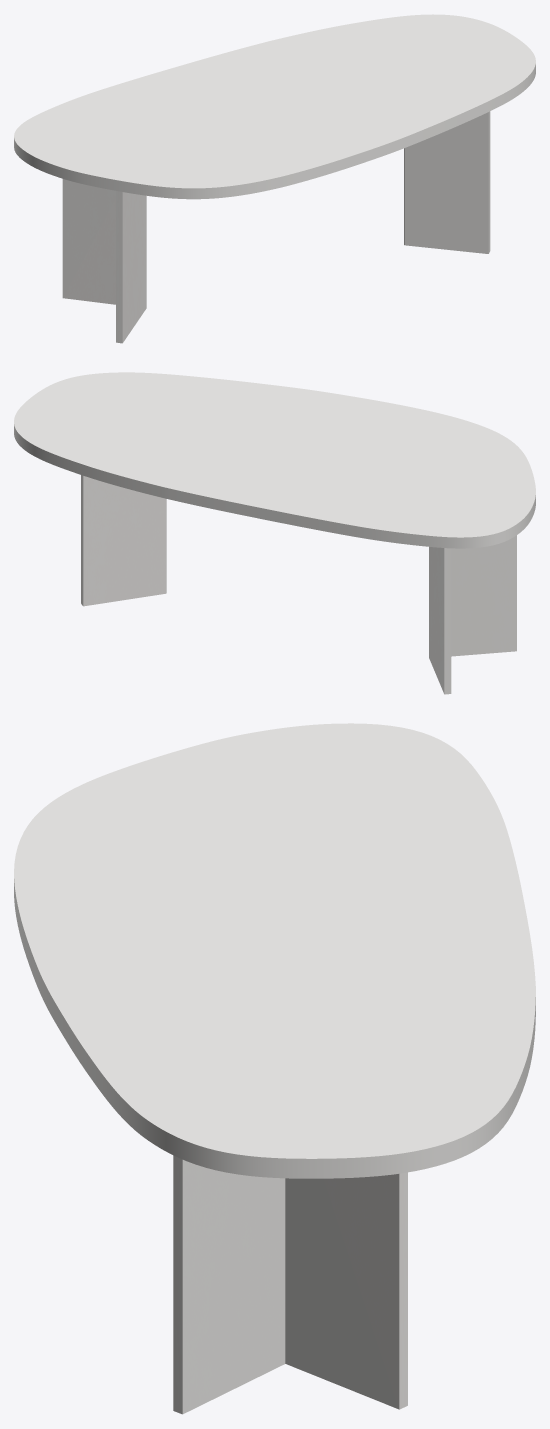
Rendered from purewhite_leaf2_standard_valleyv.glb.
The picture shows the model from 3 angles, top to bottom: view 1: azimuth 30°, elevation 25°; view 2: azimuth 150°, elevation 25°; view 3: azimuth 270°, elevation 25°; orthographic projection. The views are drawn at different scales.
Parts seen in each view (by area): view 1: standard_leaf2, valleyv; view 2: standard_leaf2, valleyv; view 3: standard_leaf2, valleyv.
Boxes of the visible parts, left/top/right/bottom form: standard_leaf2: left=14, top=14, right=535, bottom=199; valleyv: left=62, top=111, right=490, bottom=343; standard_leaf2: left=14, top=372, right=535, bottom=548; valleyv: left=81, top=475, right=516, bottom=694; standard_leaf2: left=14, top=723, right=535, bottom=1178; valleyv: left=173, top=1155, right=407, bottom=1414.
Bounding box in the file's own units: 7.5 × 2.52 × 3.8.
Materials: 1 (1 with a texture image).
